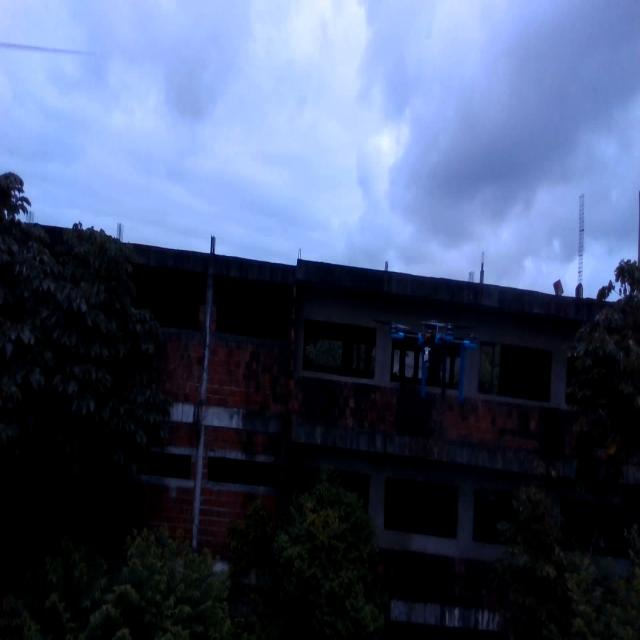-uav-: (371, 296, 491, 412)
